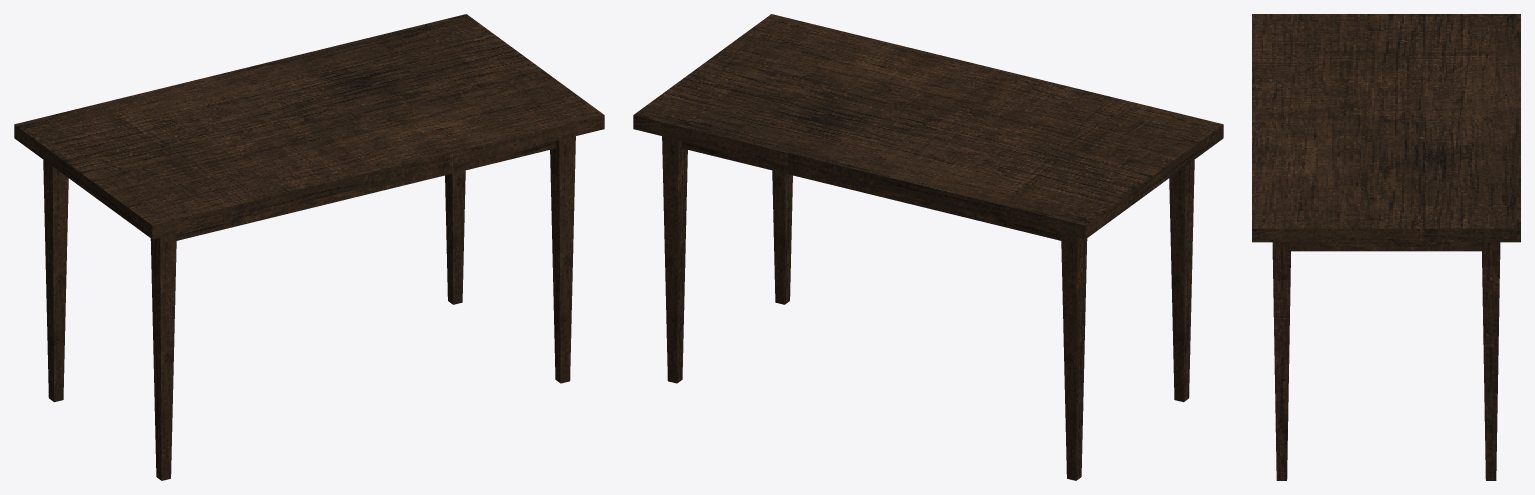
File: table_large_2_1.glb
3 renders of one model, left to right at view 1: azimuth 30°, elevation 25°; view 2: azimuth 150°, elevation 25°; view 3: azimuth 270°, elevation 25°, orthographic. The views are drawn at different scales.
Parts seen in each view (by area): view 1: table_large_2_1; view 2: table_large_2_1; view 3: table_large_2_1.
Part boxes in pixels (box(x1,y1,x2,y2)): table_large_2_1: box(14, 14, 604, 480); table_large_2_1: box(633, 14, 1223, 480); table_large_2_1: box(1252, 14, 1520, 480).
Bounding box in the file's own units: 1.7 × 0.97 × 0.9.
Materials: 1 (1 with a texture image).
